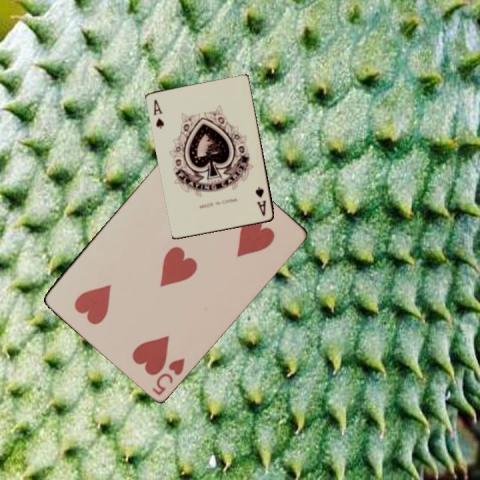5h: (148, 354, 186, 396)
As: (151, 96, 165, 130), (253, 184, 267, 217)
